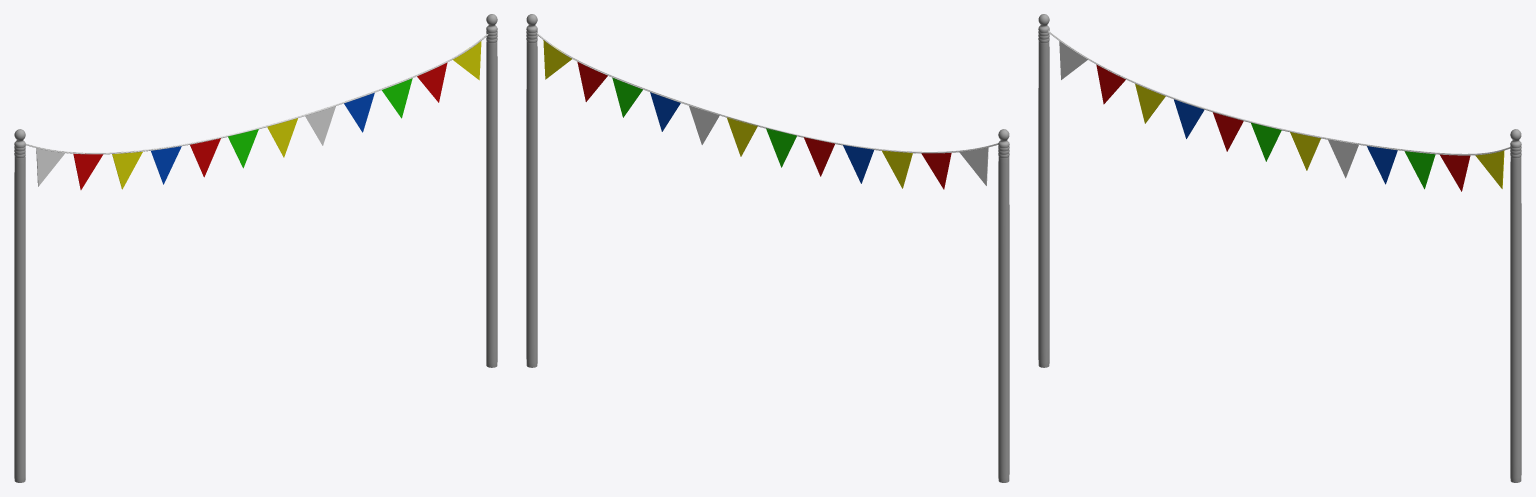
The model's file is Poste_Bamderines.fbx.
3 renders of one model, left to right at view 1: azimuth 30°, elevation 25°; view 2: azimuth 150°, elevation 25°; view 3: azimuth 330°, elevation 25°, orthographic.
Parts seen in each view (by area): view 1: curve2; view 2: curve2; view 3: curve2.
Boxes of the visible parts, left/top/right/bottom form: curve2: left=14, top=14, right=497, bottom=482; curve2: left=526, top=14, right=1009, bottom=482; curve2: left=1038, top=14, right=1521, bottom=482.
Size of the model in its own units: 15.38 by 10.71 by 0.3113.
